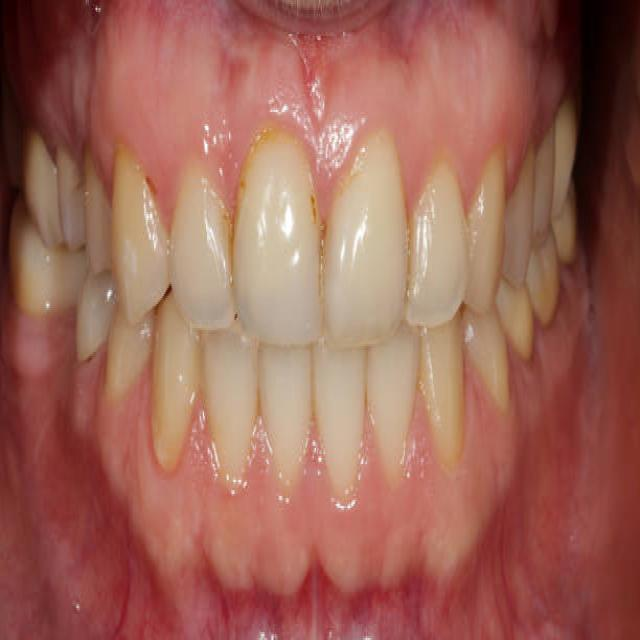calculus: (206, 127, 280, 232), (109, 146, 192, 230), (250, 387, 310, 495), (195, 377, 244, 499), (142, 350, 186, 478), (349, 119, 404, 216), (2, 261, 78, 323), (482, 151, 546, 212), (54, 140, 108, 206), (307, 185, 333, 322), (506, 281, 558, 347), (397, 193, 417, 303), (116, 341, 154, 394), (414, 349, 436, 431), (302, 387, 325, 452), (81, 341, 107, 391), (356, 381, 377, 434)
